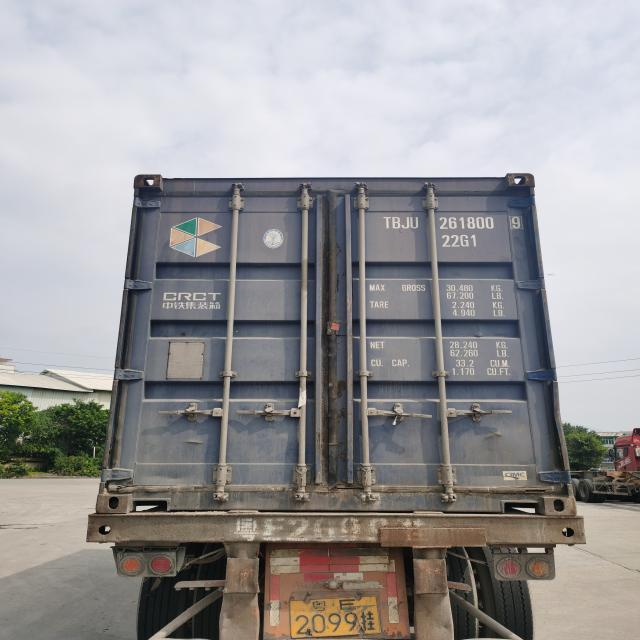ISO: (444, 236, 476, 250)
container_number: (381, 214, 524, 233)
